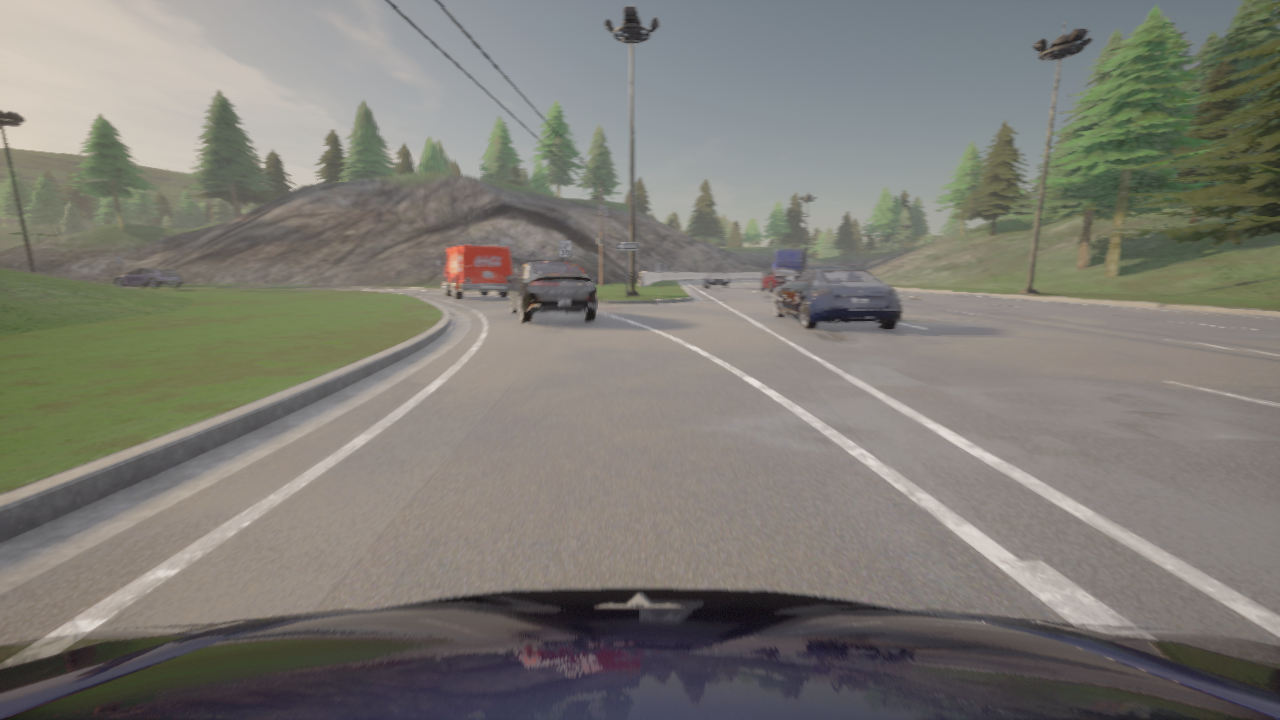cyclist: (0, 588, 1279, 719), (773, 266, 901, 329), (506, 262, 597, 322), (437, 245, 513, 299), (113, 268, 183, 287), (769, 247, 808, 273), (761, 269, 798, 292), (704, 272, 730, 288)
